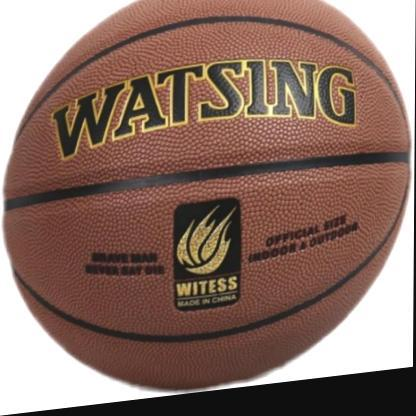basketball: (3, 0, 412, 413)
